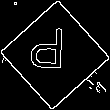P_S: (35, 29, 75, 81)
